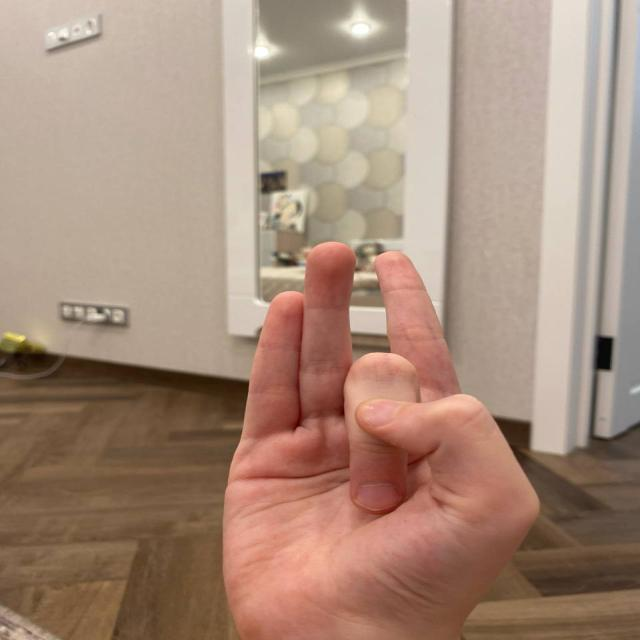r: (222, 250, 554, 637)
